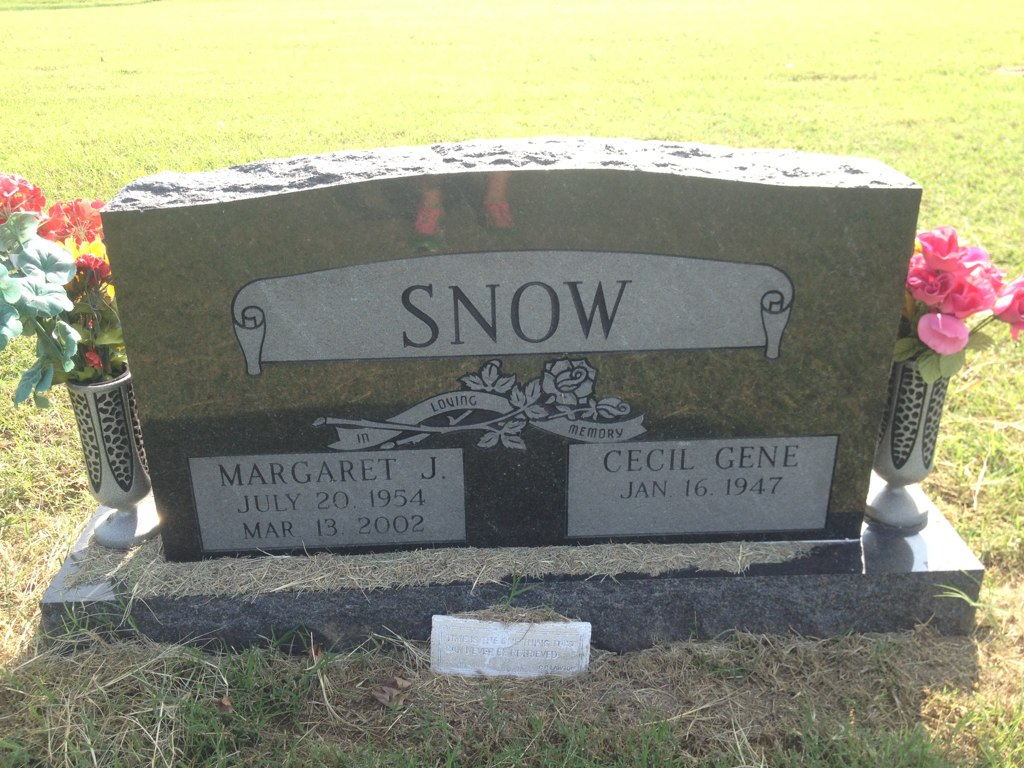upright: (38, 137, 988, 656)
